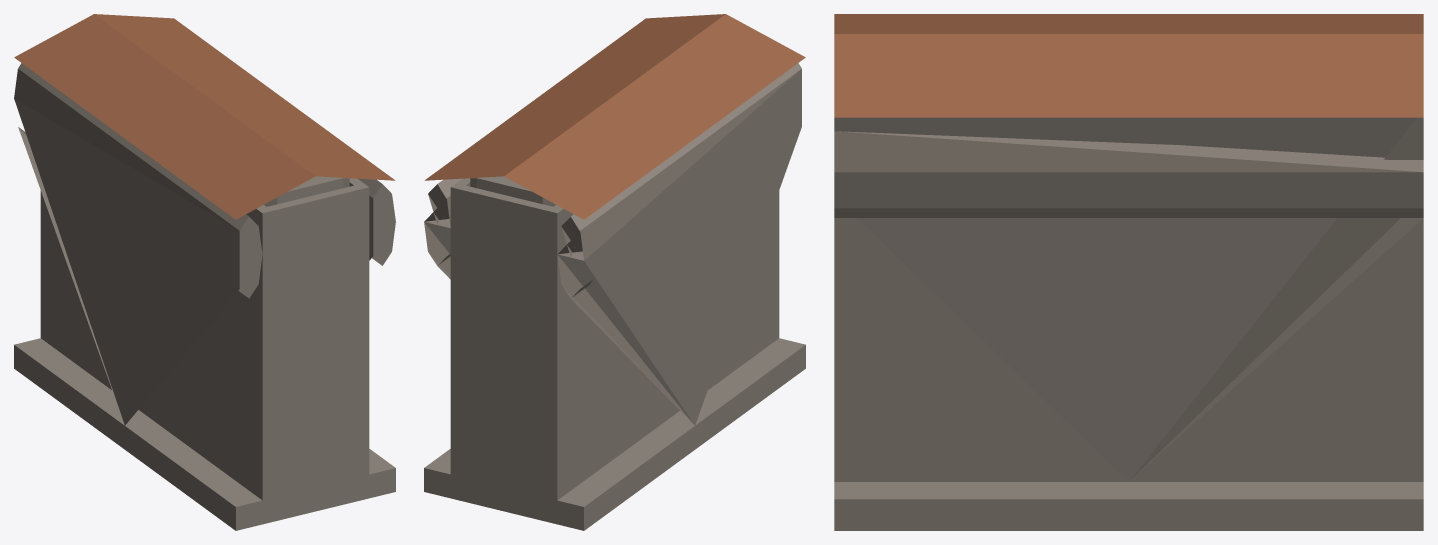
The model's file is adaptive_mid_colored.glb.
3 views of the same model, side by side, from view 1: azimuth 30°, elevation 25°; view 2: azimuth 150°, elevation 25°; view 3: azimuth 270°, elevation 25° (orthographic). The views are drawn at different scales.
Visible parts, largest first — view 1: world; view 2: world; view 3: world.
Part boxes in pixels (x1,y1,x2,y2): world: (14,14,395,530); world: (424,14,805,530); world: (834,14,1423,530).
Size of the model in its own units: 5 by 10 by 12.
